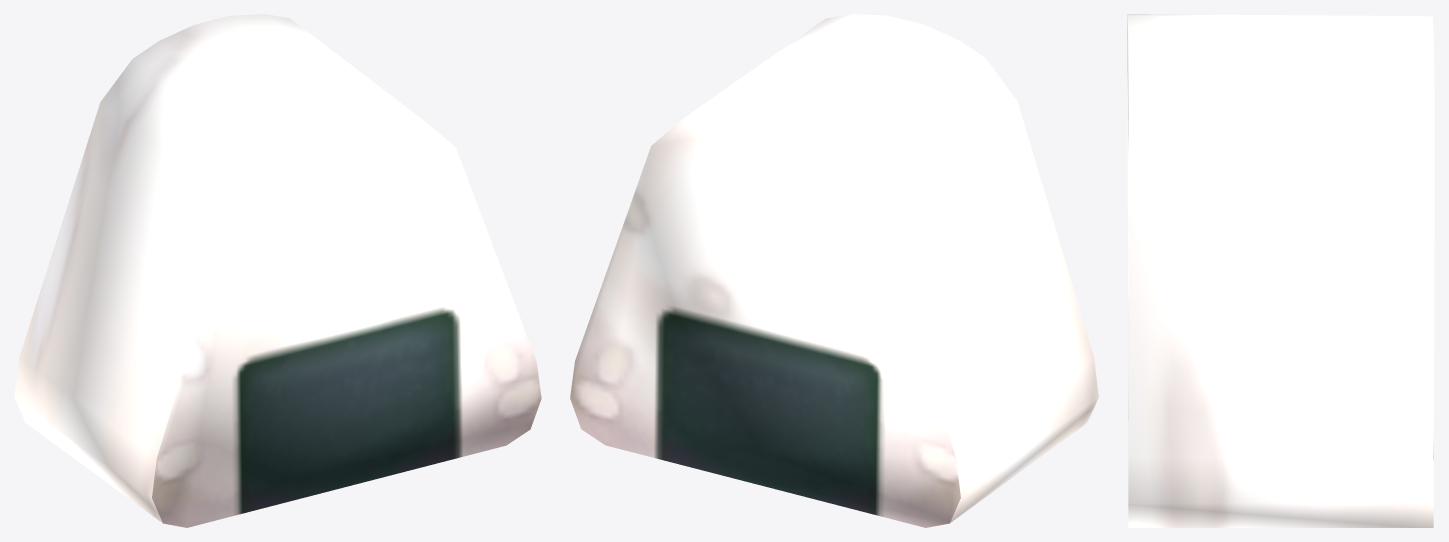
File: white_onigirisushi.glb
3 views of the same model, side by side, from view 1: azimuth 30°, elevation 25°; view 2: azimuth 150°, elevation 25°; view 3: azimuth 270°, elevation 25° (orthographic). The views are drawn at different scales.
Parts seen in each view (by area): view 1: White_OnigiriSushi; view 2: White_OnigiriSushi; view 3: White_OnigiriSushi.
Part boxes in pixels (x1=…): White_OnigiriSushi: x1=14, y1=14, x2=541, y2=527; White_OnigiriSushi: x1=570, y1=14, x2=1098, y2=527; White_OnigiriSushi: x1=1127, y1=14, x2=1434, y2=527.
Size of the model in its own units: 0.4485 by 0.4041 by 0.2762.
1 material, 1 textured.
